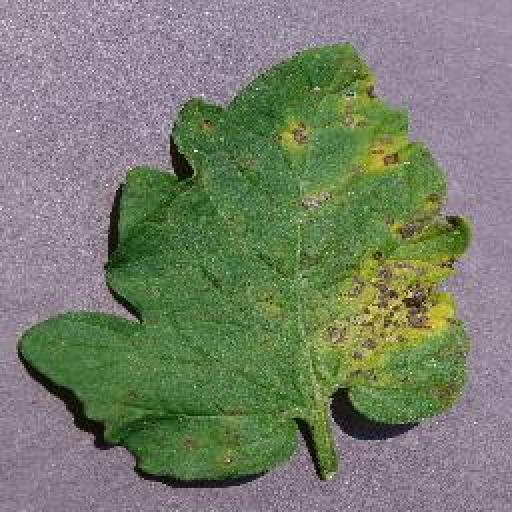disease_tomato: (16, 43, 475, 480)
